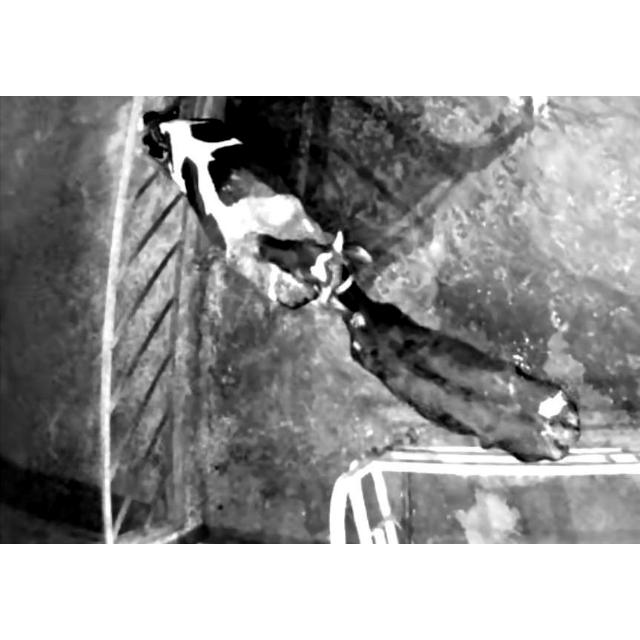propping: (237, 206, 379, 320)
